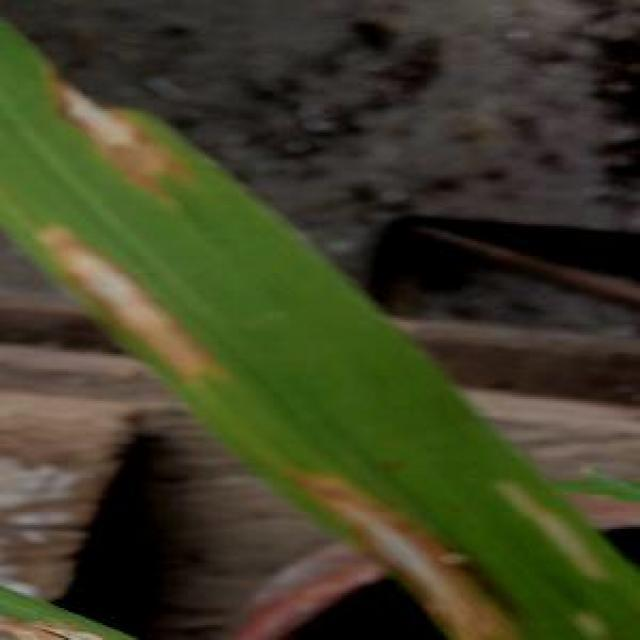Rice_Blast: (18, 202, 236, 406), (286, 448, 527, 631), (32, 32, 209, 196)
